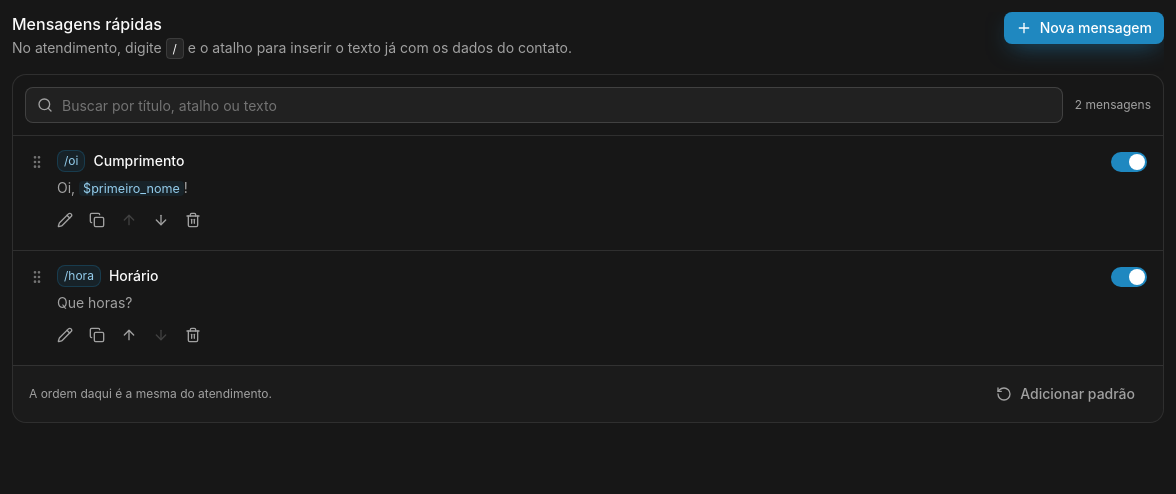
Mensagens rápidas › volta atrás quando o servidor recusa
This screenshot has width=1176, height=494.
Click the switch named "Cumprimento no atendimento". click: coordinates (1129, 162)
box: [1111, 152, 1147, 172]
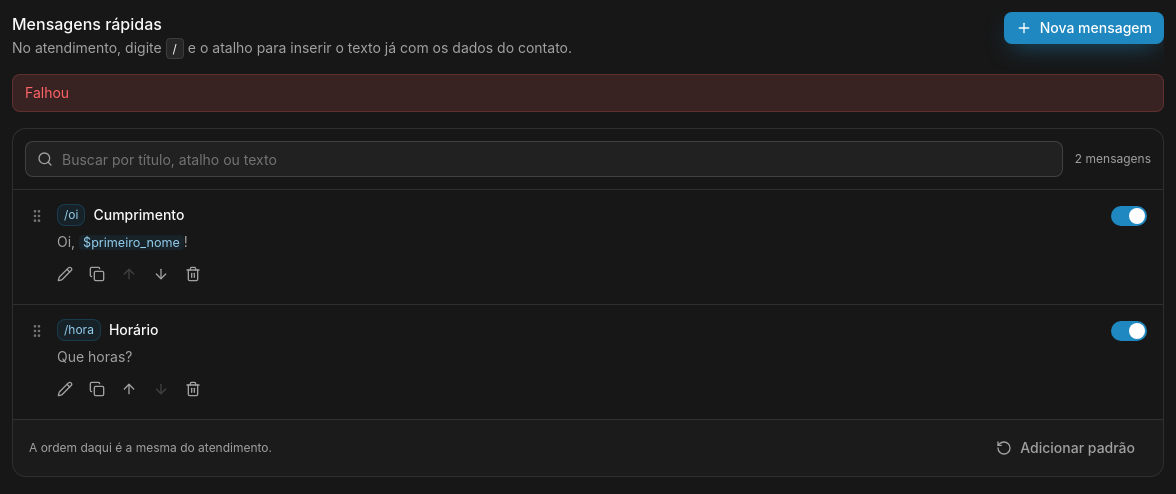
Expected: the text "Falhou" is shown, [12, 74, 1164, 112]
